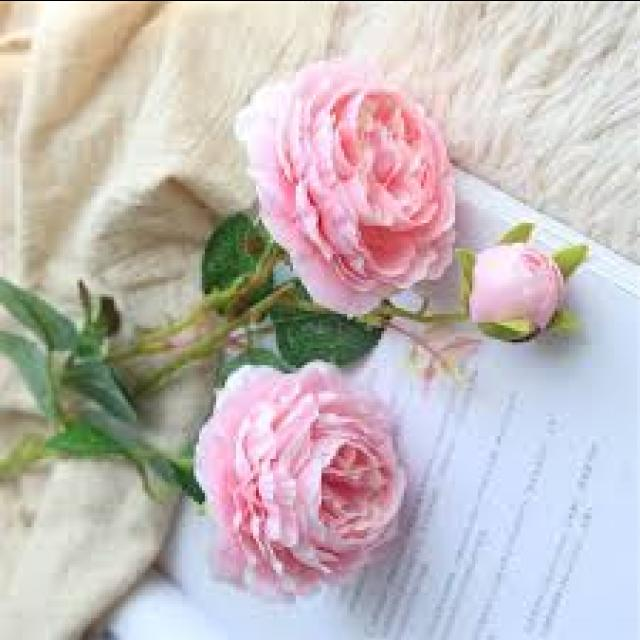rose: (178, 356, 400, 608)
